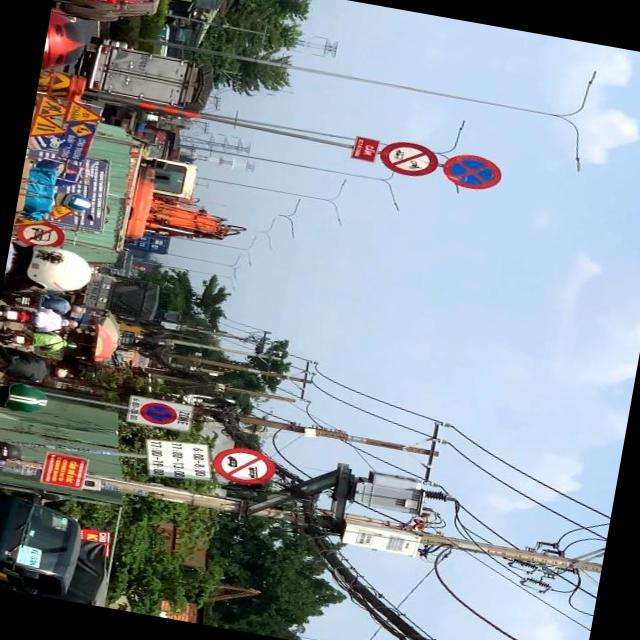P-104: (377, 136, 440, 180)
P-130: (438, 149, 503, 193)
